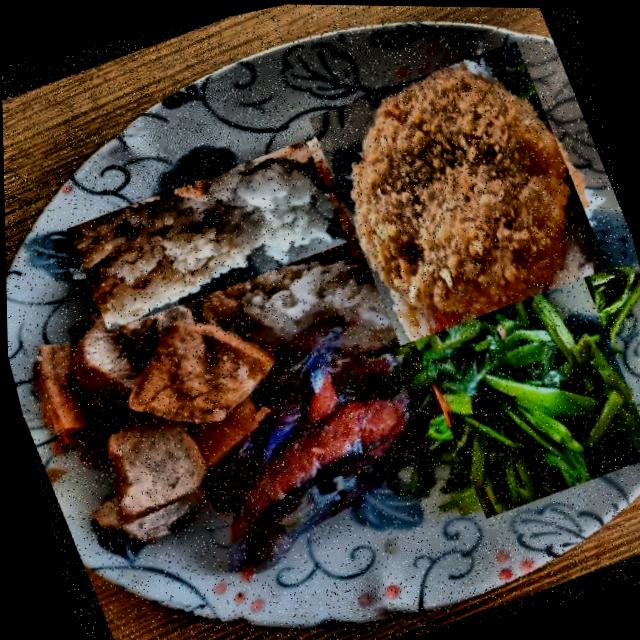Food: (296, 31, 619, 352), (390, 244, 640, 519), (55, 131, 357, 337)
